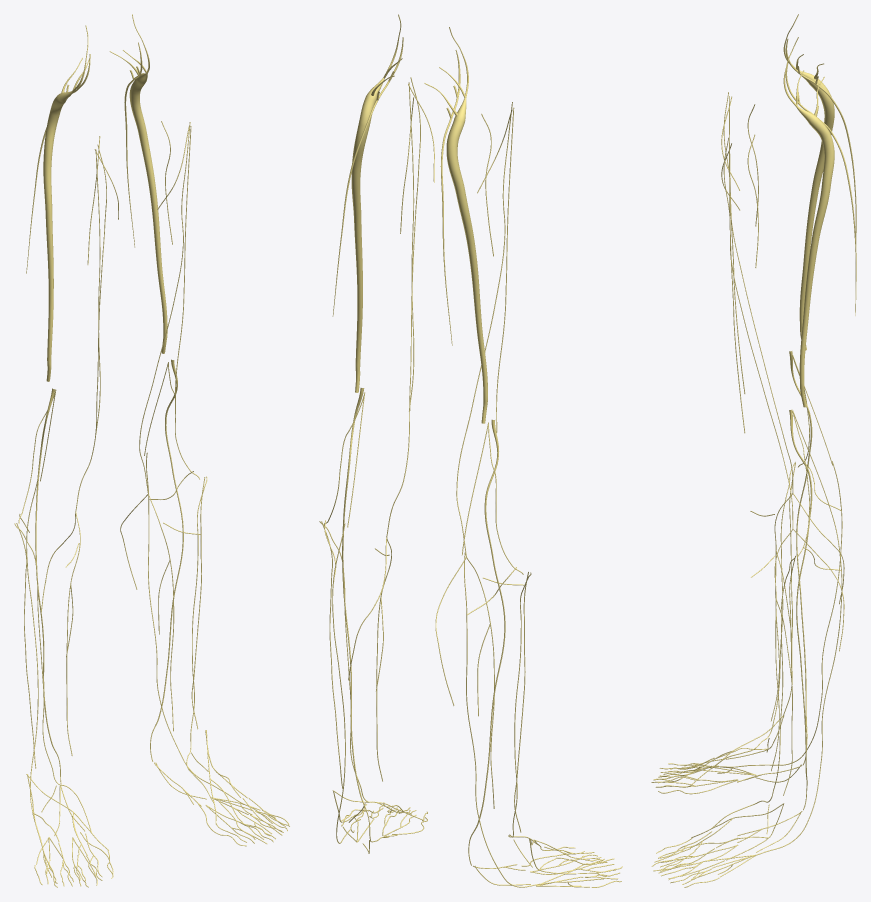
File: nerfs-membre-inf.hi.glb
3 views of the same model, side by side, from view 1: azimuth 30°, elevation 25°; view 2: azimuth 150°, elevation 25°; view 3: azimuth 270°, elevation 25° (orthographic). The views are drawn at different scales.
Visible parts, largest first — view 1: ZA-sciatic-nerve-d, ZA-sciatic-nerve-g, ZA-saphenous-nerve-g, ZA-saphenous-nerve-d, ZA-tibial-nerve-g, ZA-tibial-nerve-d, ZA-sural-nerve-g, ZA-sural-nerve-d; view 2: ZA-sciatic-nerve-d, ZA-sciatic-nerve-g, ZA-saphenous-nerve-d, ZA-saphenous-nerve-g, ZA-tibial-nerve-d, ZA-tibial-nerve-g, ZA-sural-nerve-d, ZA-posterior-femoral-cutaneous-nerve-d, ZA-posterior-femoral-cutaneous-nerve-g; view 3: ZA-sciatic-nerve-g, ZA-sciatic-nerve-d, ZA-saphenous-nerve-g, ZA-saphenous-nerve-d, ZA-tibial-nerve-g, ZA-tibial-nerve-d, ZA-sural-nerve-g, ZA-sural-nerve-d, ZA-posterior-femoral-cutaneous-nerve-g, ZA-posterior-femoral-cutaneous-nerve-d, ZA-deep-fibular-nerve-d, ZA-deep-fibular-nerve-g (+1 smaller).
Boxes of the visible parts, left/top/right/bottom form: ZA-sciatic-nerve-d: left=43, top=25, right=89, bottom=381; ZA-sciatic-nerve-g: left=109, top=14, right=167, bottom=353; ZA-saphenous-nerve-g: left=120, top=122, right=190, bottom=731; ZA-saphenous-nerve-d: left=41, top=144, right=106, bottom=755; ZA-tibial-nerve-g: left=150, top=359, right=183, bottom=761; ZA-tibial-nerve-d: left=35, top=388, right=61, bottom=784; ZA-sural-nerve-g: left=146, top=452, right=272, bottom=823; ZA-sural-nerve-d: left=26, top=481, right=52, bottom=877; ZA-sciatic-nerve-d: left=424, top=27, right=487, bottom=423; ZA-sciatic-nerve-g: left=351, top=14, right=402, bottom=392; ZA-saphenous-nerve-d: left=435, top=102, right=512, bottom=808; ZA-saphenous-nerve-g: left=348, top=77, right=420, bottom=781; ZA-tibial-nerve-d: left=468, top=419, right=505, bottom=865; ZA-tibial-nerve-g: left=342, top=388, right=370, bottom=840; ZA-sural-nerve-d: left=464, top=552, right=603, bottom=887; ZA-posterior-femoral-cutaneous-nerve-d: left=440, top=50, right=460, bottom=345; ZA-posterior-femoral-cutaneous-nerve-g: left=332, top=37, right=403, bottom=316; ZA-sciatic-nerve-g: left=783, top=37, right=834, bottom=407; ZA-sciatic-nerve-d: left=783, top=14, right=834, bottom=350; ZA-saphenous-nerve-g: left=723, top=137, right=844, bottom=771; ZA-saphenous-nerve-d: left=723, top=92, right=844, bottom=721; ZA-tibial-nerve-g: left=789, top=409, right=812, bottom=810; ZA-tibial-nerve-d: left=789, top=351, right=812, bottom=765; ZA-sural-nerve-g: left=691, top=515, right=842, bottom=879; ZA-sural-nerve-d: left=697, top=461, right=842, bottom=773; ZA-posterior-femoral-cutaneous-nerve-g: left=785, top=62, right=856, bottom=315; ZA-posterior-femoral-cutaneous-nerve-d: left=785, top=39, right=856, bottom=243; ZA-deep-fibular-nerve-d: left=710, top=462, right=795, bottom=768; ZA-deep-fibular-nerve-g: left=711, top=556, right=795, bottom=828.
Bounding box in the file's own units: 0.326 × 0.9985 × 0.2319.
